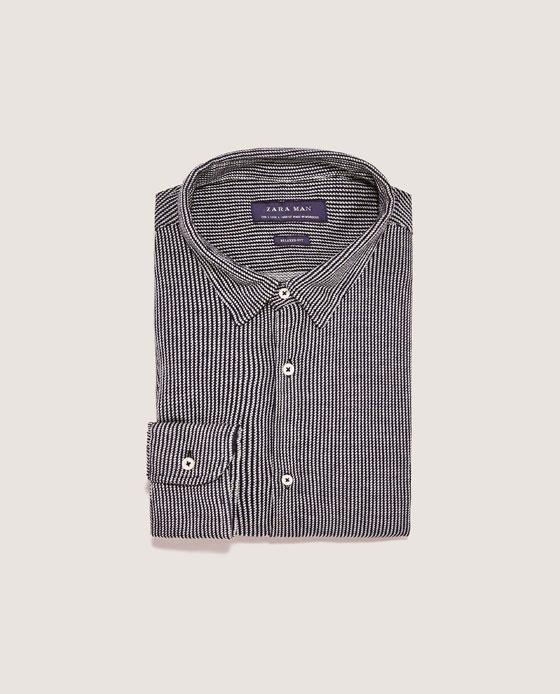teeshirt: (139, 142, 419, 550)
